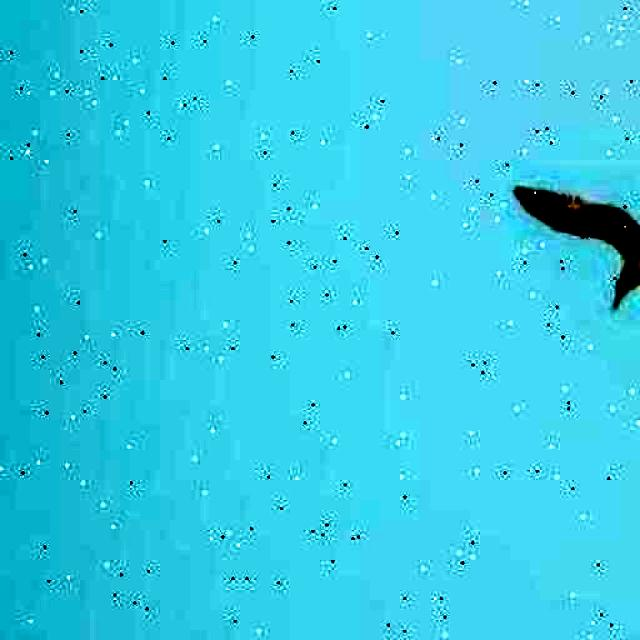airplane: (482, 184, 640, 450)
